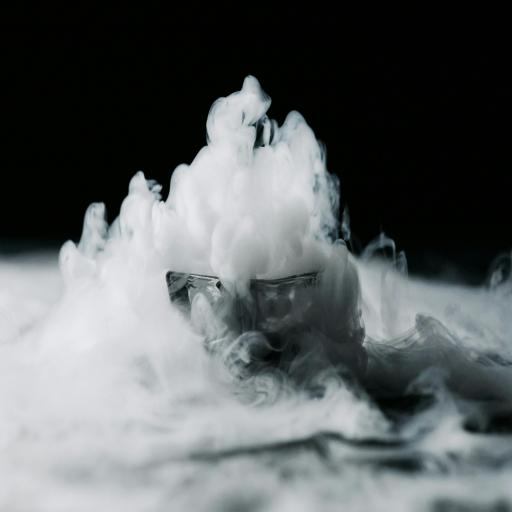smoke: (6, 106, 512, 512)
